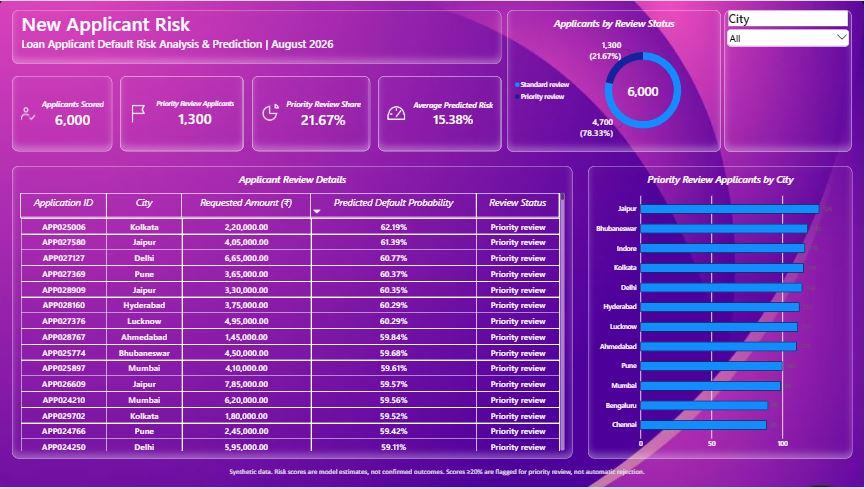

The page's visual inventory and layout, read from the dashboard file:
{"tool":"powerbi","page":{"name":"New Applicant Risk","canvas":[1920,1080],"ordinal":1},"visuals":[{"type":"cardVisual","fields":{"Data":["Applications.Applicants Scored"]},"box":[27.5,167.5,222.5,167.5],"z":0},{"type":"cardVisual","fields":{"Data":["Applications.Priority Review Applicants"]},"box":[267.5,167.5,275,167.5],"z":1},{"type":"cardVisual","fields":{"Data":["Applications.Priority Review Share"]},"box":[560,167.5,262.5,167.5],"z":2},{"type":"cardVisual","fields":{"Data":["Applications.Average Predicted Risk"]},"box":[840,167.5,275,167.5],"z":3},{"type":"donutChart","title":"Applicants by Review Status","fields":{"Category":["Predictions.Review_Status"],"Y":["Applications.Applicants Scored"]},"box":[1125,20,475,315],"z":4},{"type":"clusteredBarChart","title":"Priority Review Applicants by City","fields":{"Category":["Applications.City"],"Y":["Applications.Priority Review Applicants"]},"box":[1305,365,587.5,650],"z":5},{"type":"tableEx","title":"Applicant Review Details","fields":{"Values":["Applications.Application_ID","Applications.City","Applications.Requested_Amount_INR","Predictions.Predicted_Default_Probability","Predictions.Review_Status"]},"box":[27.5,365,1245,650],"z":6},{"type":"slicer","fields":{"Values":["Applications.City"]},"box":[1610,20,282.5,315],"z":7},{"type":"textbox","box":[27.5,20,1087.5,120],"z":8},{"type":"textbox","box":[510,1037.5,932.5,42.5],"z":9}]}

Visuals, with their boxes in screenshot pixels (x1, y1, x2, y2), scaled from the page's 1920x1080 canvas onto the 865x489 screenshot:
cardVisual - Applications.Applicants Scored: select_region(12, 76, 113, 152)
cardVisual - Applications.Priority Review Applicants: select_region(121, 76, 244, 152)
cardVisual - Applications.Priority Review Share: select_region(252, 76, 371, 152)
cardVisual - Applications.Average Predicted Risk: select_region(378, 76, 502, 152)
"Applicants by Review Status" donutChart: select_region(507, 9, 721, 152)
"Priority Review Applicants by City" clusteredBarChart: select_region(588, 165, 853, 460)
"Applicant Review Details" tableEx: select_region(12, 165, 573, 460)
slicer - Applications.City: select_region(725, 9, 853, 152)
textbox: select_region(12, 9, 502, 63)
textbox: select_region(230, 470, 650, 488)
